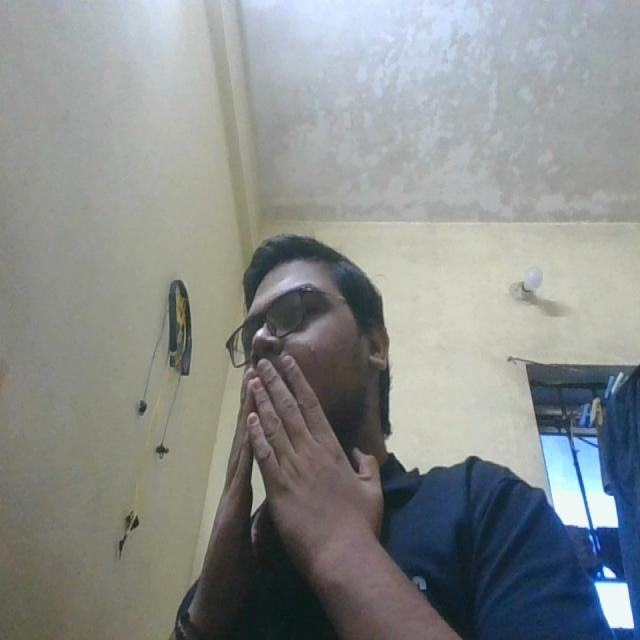Thanks: (190, 352, 397, 586)
